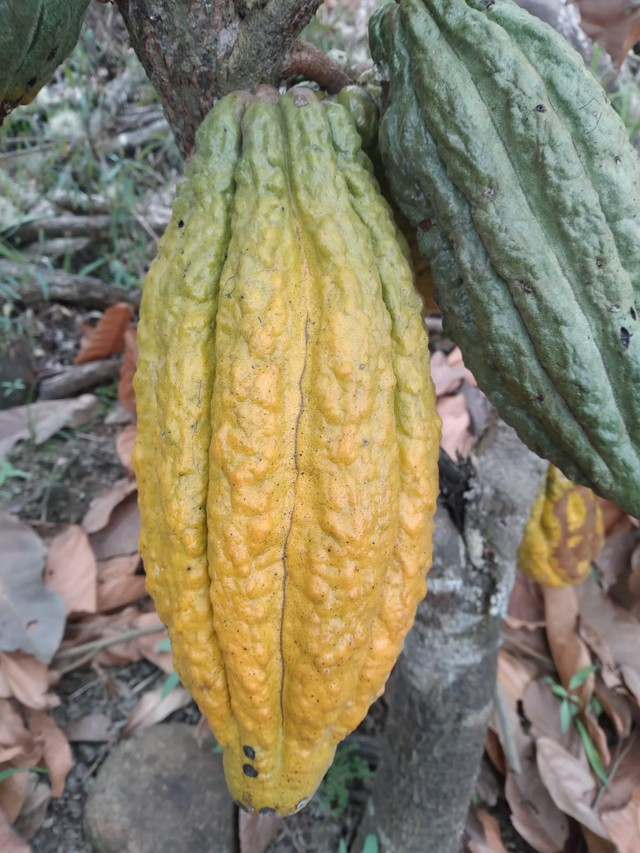Health: (124, 74, 453, 824)
